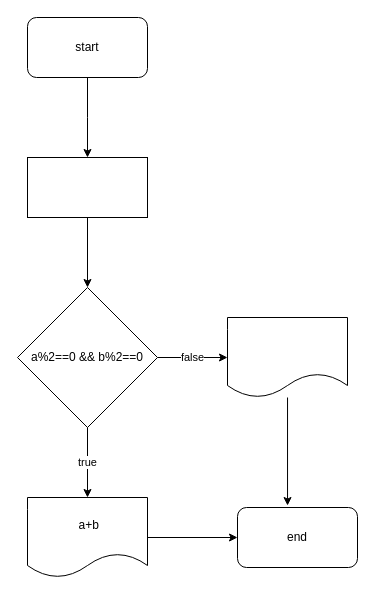
Image size: 375x595. Some labels were removed from this diagram. The box of each missing label's shape, as (x1, y1, x2, y2) in pixels:
daxil olunan ededler cut olmalidir!: (226, 316, 348, 398)
int a,b;: (26, 156, 148, 218)
